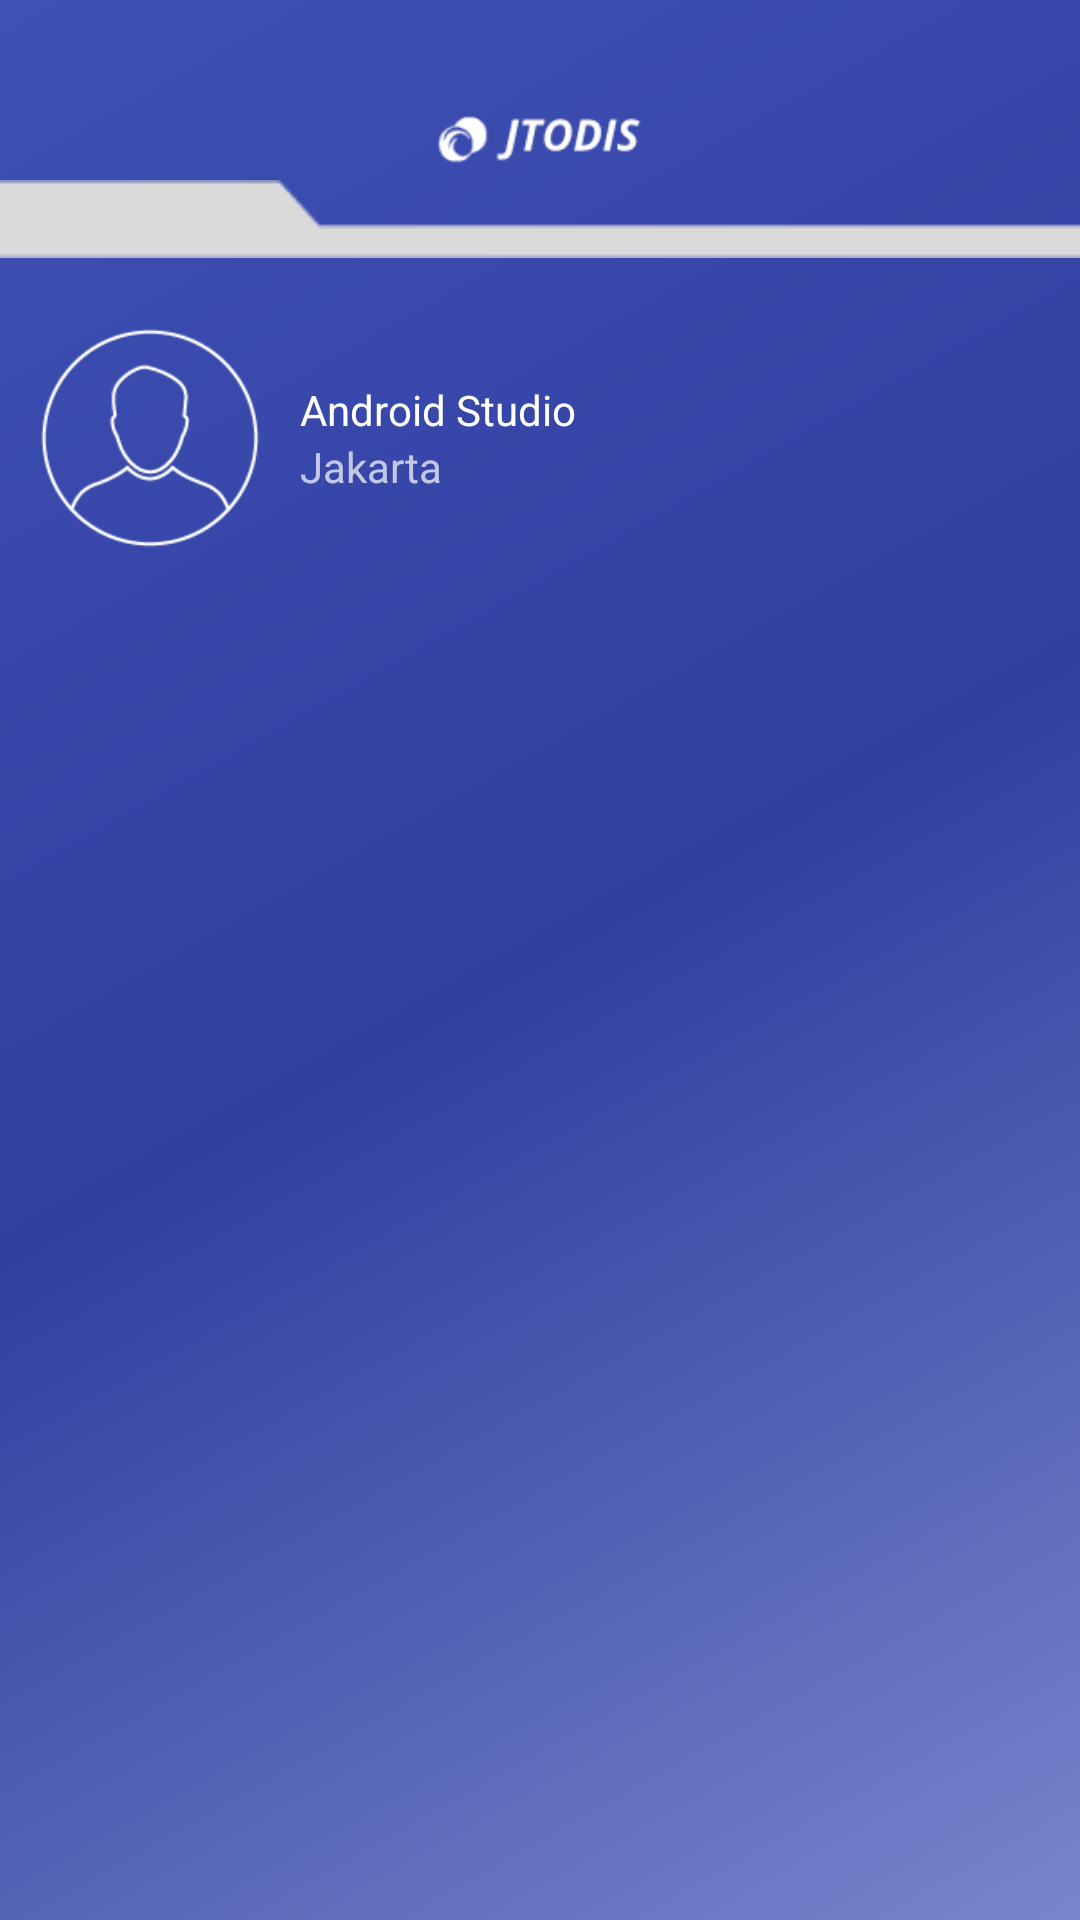

Icons on this 1080×1920 Android screen, each with the point to tap as (x=x, y=y):
user: (x=150, y=438)
